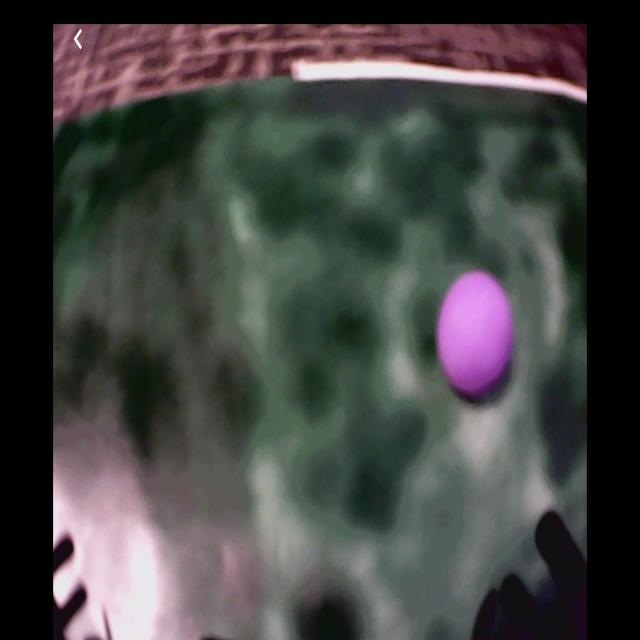ball: (440, 270, 513, 397)
